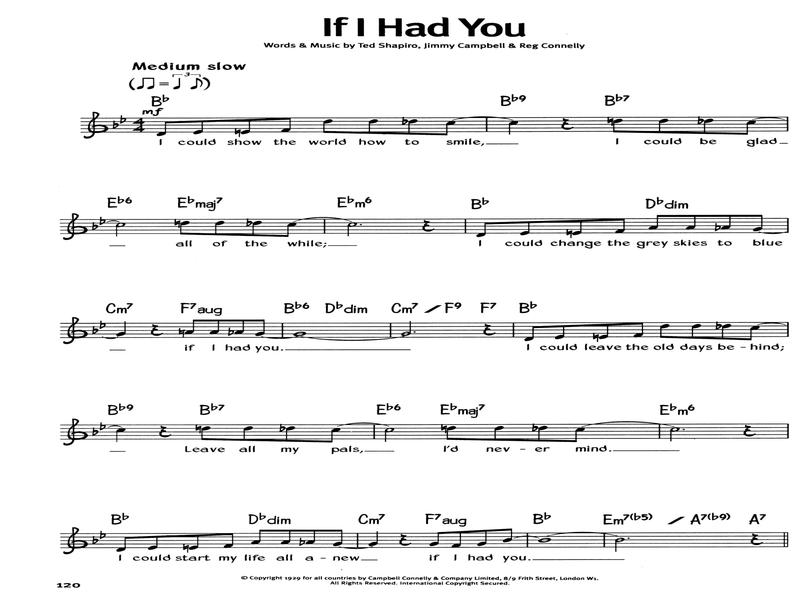B: (614, 537, 625, 553), (384, 427, 395, 443), (346, 222, 357, 238), (402, 320, 412, 337), (115, 222, 126, 237), (670, 427, 680, 443)
Bem: (401, 116, 409, 126), (92, 221, 99, 232), (92, 426, 99, 437), (120, 115, 127, 125), (714, 221, 721, 231), (100, 320, 107, 330), (279, 423, 286, 433), (99, 530, 106, 540), (532, 422, 538, 433), (228, 328, 235, 337), (715, 321, 722, 330), (92, 536, 99, 545), (697, 115, 703, 125), (246, 218, 252, 228), (100, 421, 106, 431), (300, 537, 306, 547), (112, 121, 119, 129), (100, 216, 106, 225), (93, 326, 98, 335)
C: (451, 530, 465, 550), (524, 325, 541, 341), (476, 221, 492, 238), (116, 535, 131, 553), (238, 426, 254, 442), (439, 120, 455, 136), (157, 120, 173, 136), (687, 324, 702, 340), (211, 220, 226, 236), (685, 214, 700, 230), (741, 120, 756, 136), (570, 426, 584, 443), (282, 221, 296, 238), (519, 221, 534, 236), (653, 119, 668, 134), (364, 119, 379, 134), (193, 119, 208, 134), (430, 531, 444, 547), (281, 529, 295, 545), (252, 529, 266, 545), (326, 428, 340, 444), (745, 325, 759, 341), (555, 324, 569, 340), (210, 319, 224, 335), (186, 319, 200, 335), (648, 214, 662, 230), (722, 214, 736, 230), (478, 529, 491, 546), (189, 533, 202, 550), (600, 323, 613, 340), (250, 220, 263, 237), (573, 219, 586, 236), (489, 426, 503, 441), (306, 529, 319, 545), (147, 535, 160, 551), (405, 119, 418, 135), (283, 426, 295, 443), (701, 118, 713, 135), (615, 217, 626, 235), (719, 324, 731, 340), (179, 220, 191, 236), (242, 117, 253, 134), (333, 529, 343, 547), (536, 426, 547, 442), (632, 321, 643, 337), (236, 319, 247, 335), (612, 118, 623, 134), (281, 117, 292, 133), (255, 319, 265, 336), (753, 215, 763, 232), (322, 119, 333, 134), (224, 532, 234, 548), (503, 528, 513, 543), (446, 426, 456, 441), (660, 325, 670, 339), (202, 426, 211, 441)
CS: (61, 316, 88, 345), (82, 111, 109, 139), (62, 212, 88, 241), (62, 418, 88, 446), (62, 526, 87, 555)
N: (115, 427, 126, 443), (368, 531, 379, 547), (508, 120, 519, 134), (117, 321, 127, 336)
P: (682, 428, 686, 432), (359, 223, 363, 226), (413, 330, 417, 333), (628, 537, 631, 540)
R: (293, 332, 309, 337), (539, 538, 552, 543)
